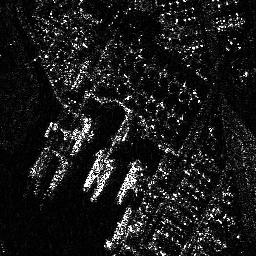ship: (103, 204, 132, 249), (89, 158, 114, 203), (81, 146, 104, 191), (117, 158, 140, 201), (70, 119, 96, 154)
